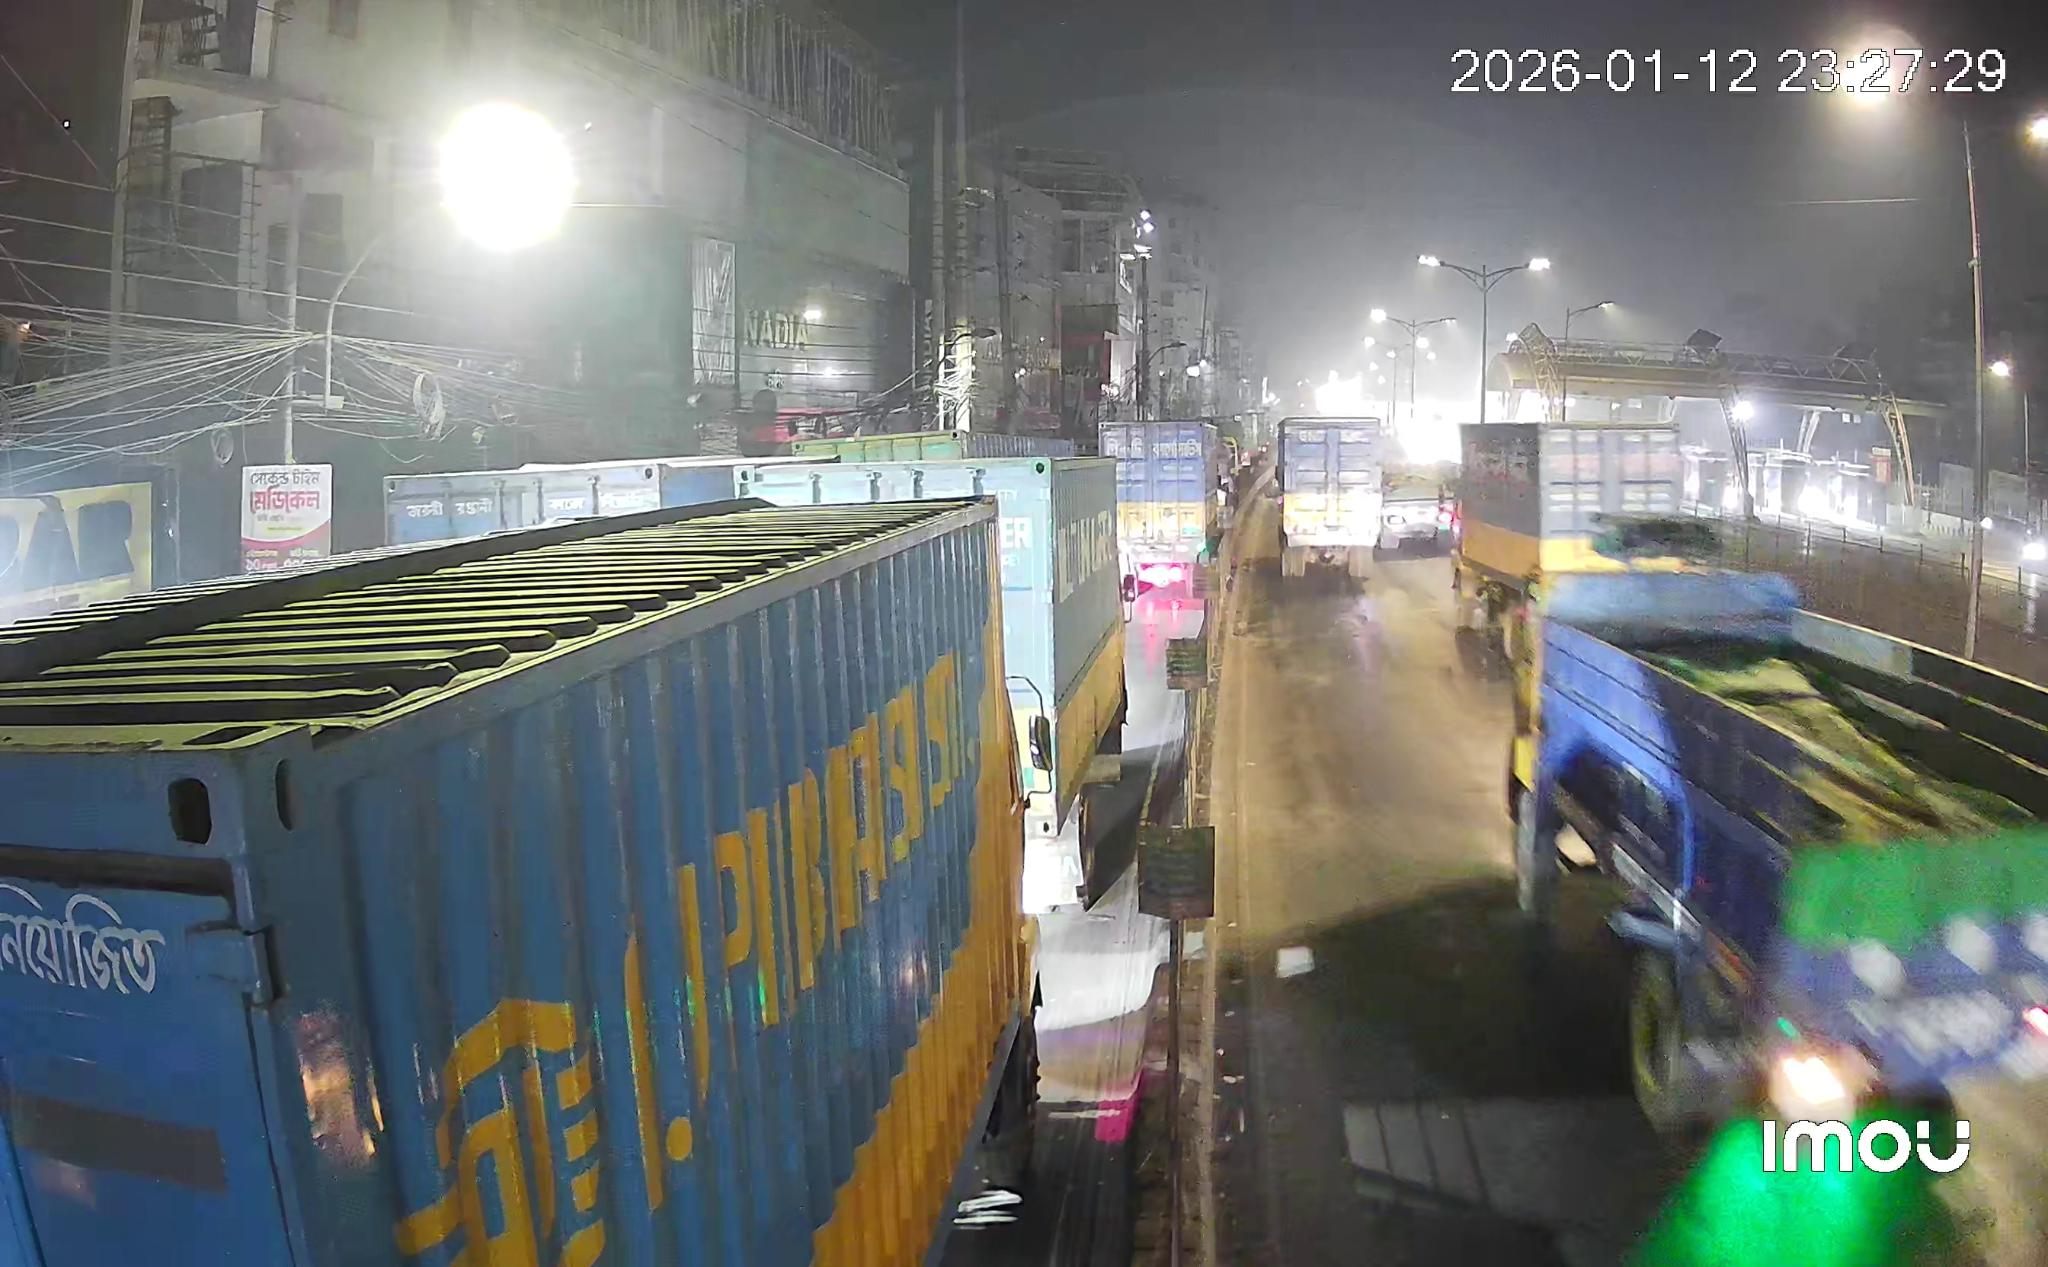Truck: (0, 499, 1039, 1267), (1507, 515, 2047, 1192), (734, 455, 1122, 863), (1457, 420, 1690, 632), (1100, 420, 1230, 593), (1276, 416, 1387, 584)
